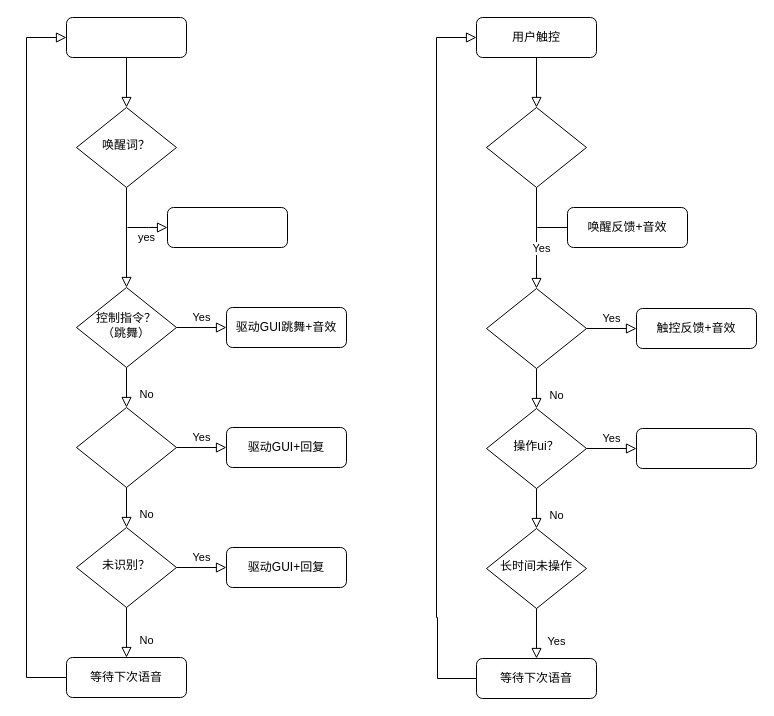
The diagram is 774 pixels wide and 716 high, and some of its shapes have lost their labels. Here are the shapes that lost their labels. From the top down, the centre of each, then its label:
At [126,37]: "用户说话".
At [536,147]: "点击屏幕？".
At [227,227]: "yes, master！".
At [536,328]: "操作虚拟人？".
At [126,447]: "闲聊？".
At [696,448]: "控制面板".
